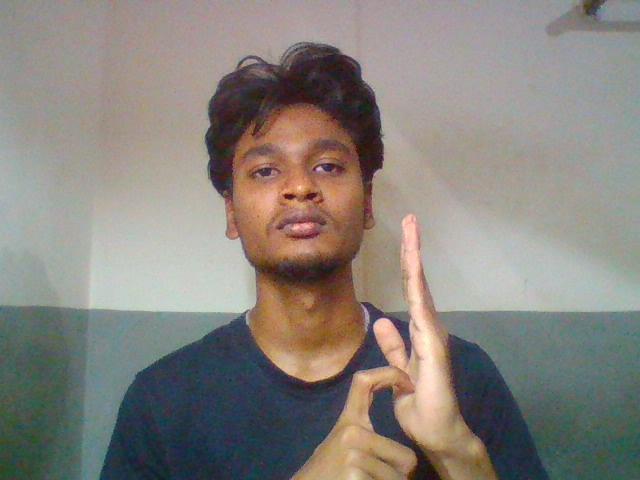H: (300, 204, 500, 480)
